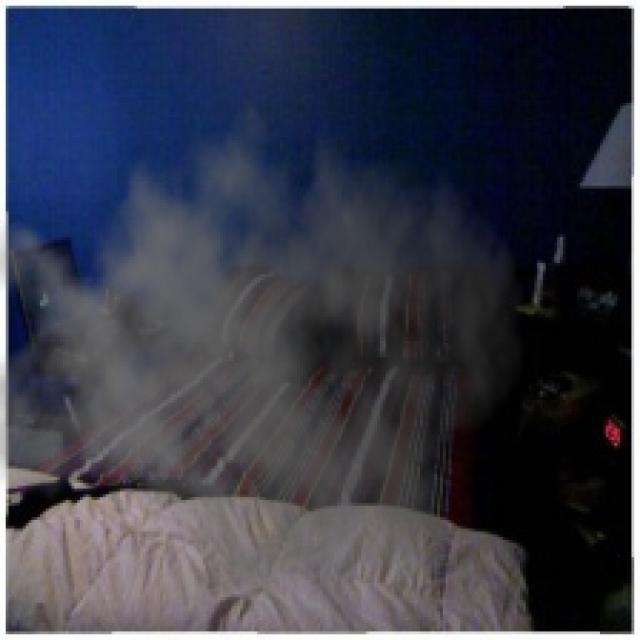smoke: (0, 71, 526, 623)
